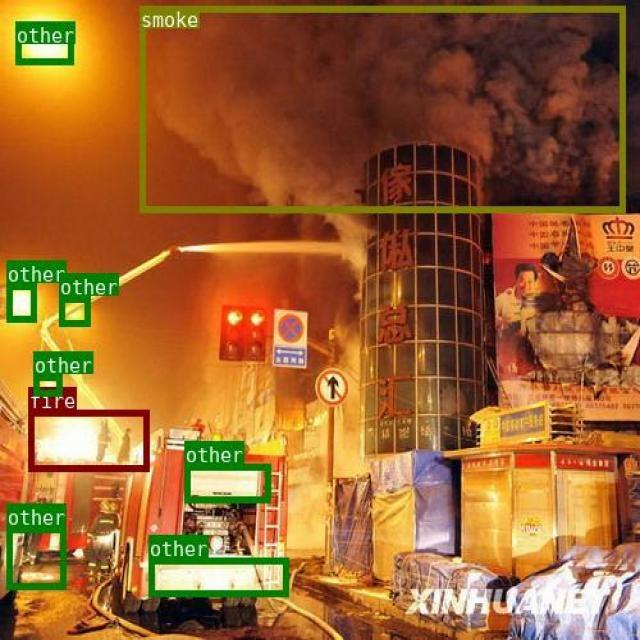fire: (27, 409, 148, 470)
smoke: (139, 4, 624, 211)
